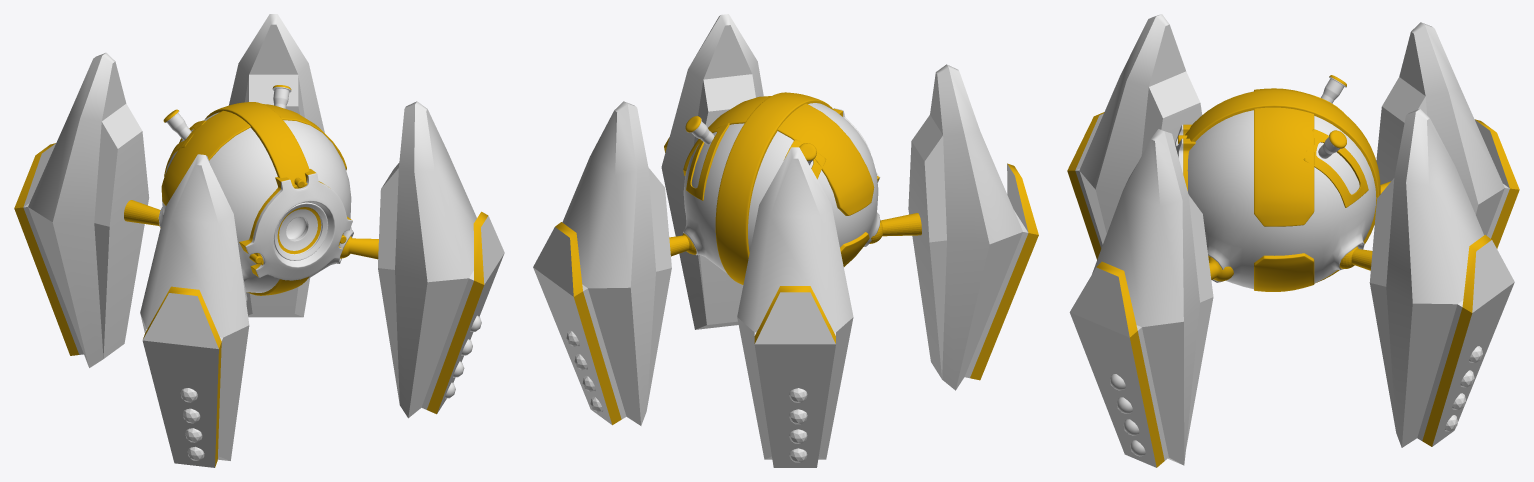
Rendered from ShooterDroid.fbx.
3 views of the same model, side by side, from view 1: azimuth 30°, elevation 25°; view 2: azimuth 150°, elevation 25°; view 3: azimuth 270°, elevation 25° (orthographic). The views are drawn at different scales.
Visible parts, largest first — view 1: Sphere.018, Sphere.015, Sphere.017, Head.009, Sphere.016; view 2: Sphere.016, Sphere.017, Sphere.018, Head.009, Sphere.015; view 3: Head.009, Sphere.016, Sphere.015, Sphere.017, Sphere.018.
Boxes of the visible parts, left/top/right/bottom form: Sphere.018: left=14, top=52, right=160, bottom=367; Sphere.015: left=340, top=101, right=504, bottom=418; Sphere.017: left=140, top=154, right=249, bottom=467; Head.009: left=158, top=85, right=353, bottom=295; Sphere.016: left=229, top=14, right=324, bottom=317; Sphere.016: left=533, top=101, right=696, bottom=425; Sphere.017: left=869, top=64, right=1038, bottom=390; Sphere.018: left=737, top=147, right=853, bottom=467; Head.009: left=683, top=92, right=880, bottom=284; Sphere.015: left=661, top=14, right=763, bottom=329; Head.009: left=1175, top=75, right=1380, bottom=291; Sphere.016: left=1339, top=109, right=1514, bottom=447; Sphere.015: left=1069, top=129, right=1233, bottom=467; Sphere.017: left=1067, top=14, right=1202, bottom=259; Sphere.018: left=1376, top=22, right=1519, bottom=248.
Bounding box in the file's own units: 389 × 317 × 390.
